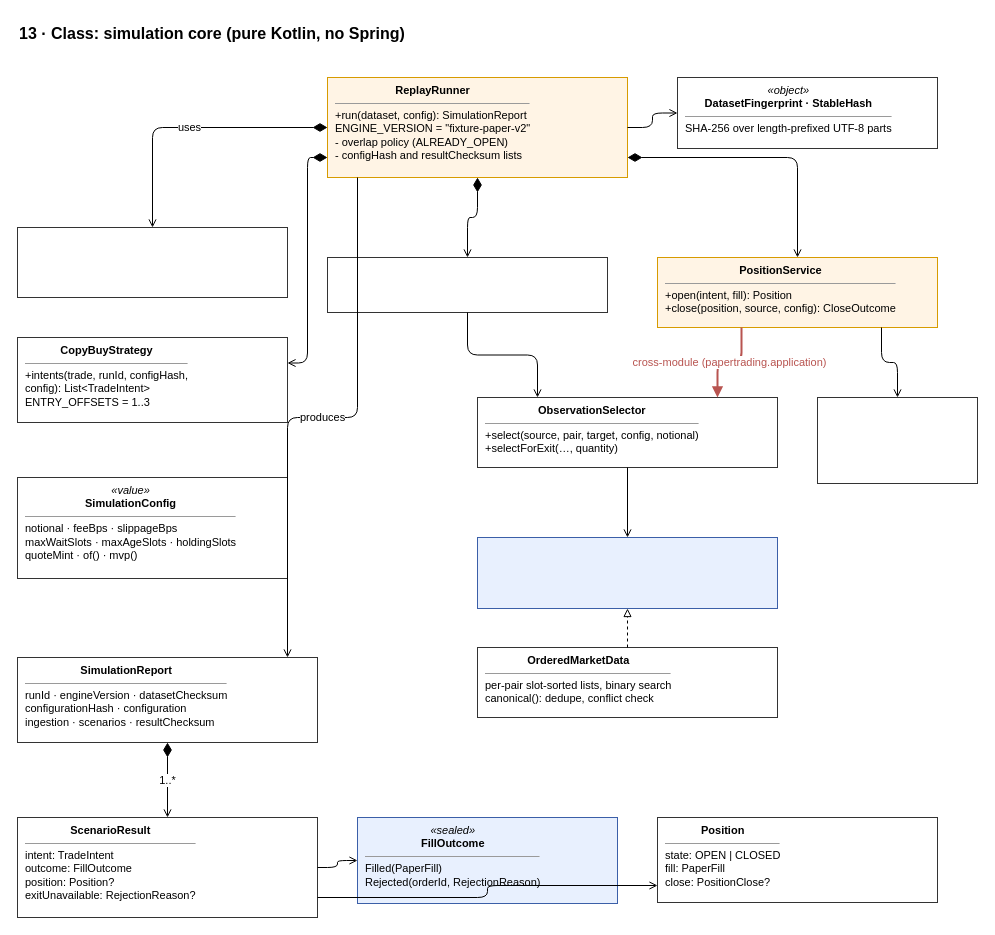
The diagram is 995 pixels wide and 935 high, and some of its shapes have lost their labels. Here are the shapes that lost their labels. From the top down, the centre of each, then its label:
the point at 152,262: WalletNormalizer +normalize(tx, wallet, quoteMint) : NormalizationOutcome
the point at 467,284: FillModel +fill(intent, source, config): FillOutcome
the point at 897,440: «object» ExecutionPrice buy(obs, bps) sell(obs, bps)
the point at 627,572: «interface» MarketDataSource observations(pair, from, through)
